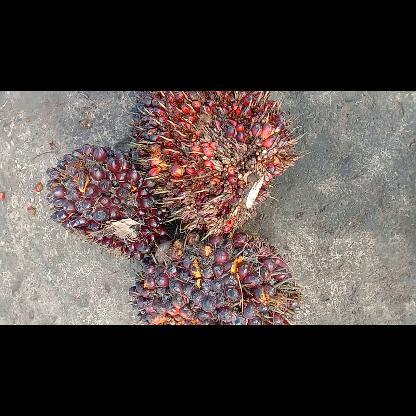Kurang masak: (129, 232, 301, 324), (44, 144, 166, 260)
TBS masak: (131, 91, 297, 231)
